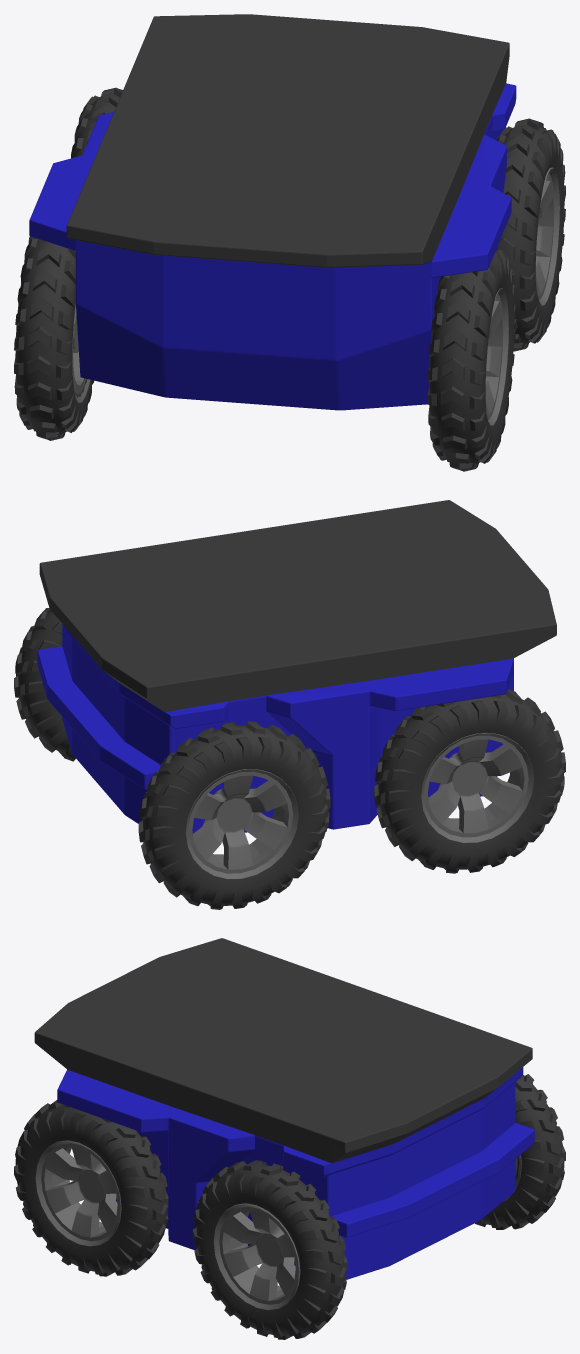
Rendered from robots_04.dae.
3 views of the same model, one above another, from view 1: azimuth 30°, elevation 25°; view 2: azimuth 150°, elevation 25°; view 3: azimuth 270°, elevation 25° (orthographic). The views are drawn at different scales.
Parts seen in each view (by area): view 1: Object021; view 2: Object021; view 3: Object021.
Part boxes in pixels (x1,y1,x2,y2): Object021: [14, 14, 565, 471]; Object021: [14, 500, 565, 909]; Object021: [14, 938, 565, 1339].
Size of the model in its own units: 61.24 by 61.69 by 25.49.
1 material, 1 textured.
